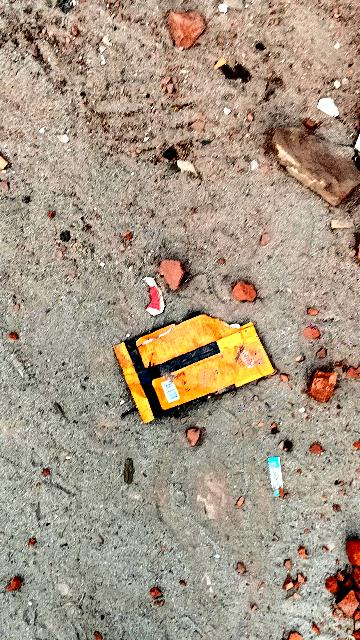packet: (99, 297, 289, 443)
